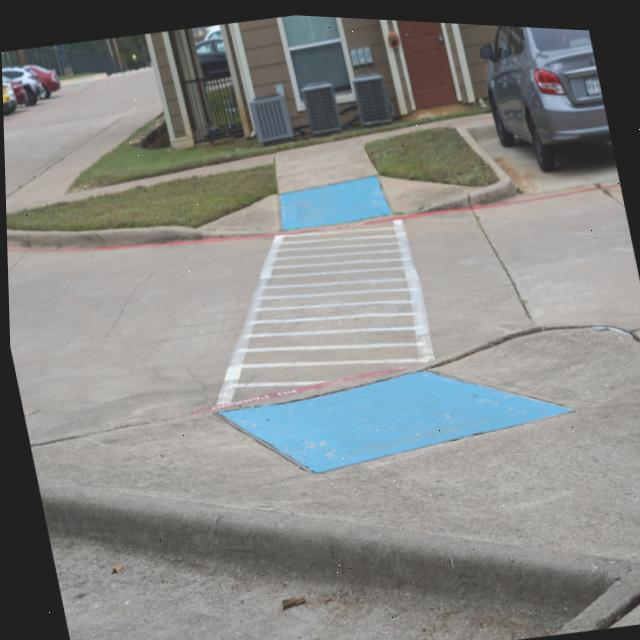Automobile: (482, 20, 610, 165), (2, 64, 59, 114), (196, 23, 228, 75)
Road: (6, 215, 421, 443), (402, 109, 640, 354), (3, 68, 155, 193), (391, 215, 432, 358)
Sidewalk: (28, 319, 640, 555), (5, 97, 461, 232)
